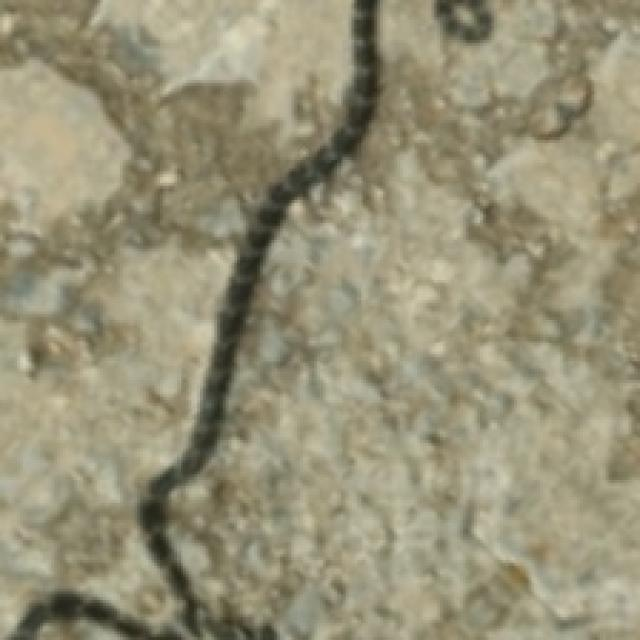king cobra: (169, 0, 637, 637), (0, 0, 349, 634)
